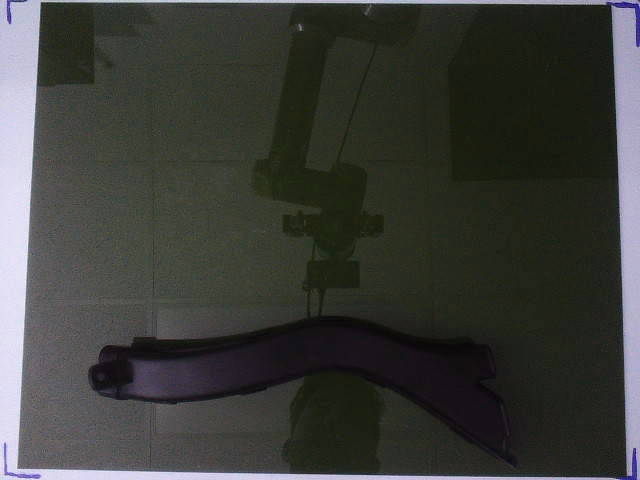887_B-Top: (88, 319, 518, 468)
